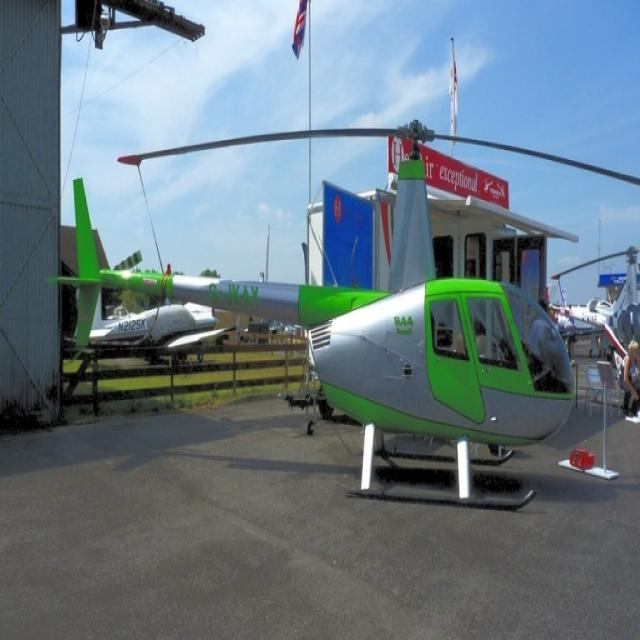CIV_HELO: (47, 115, 578, 515)
